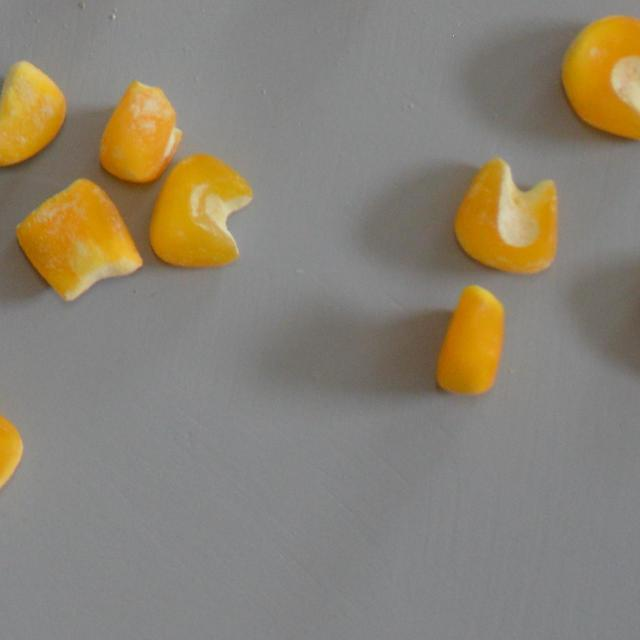estandar: (432, 284, 506, 396)
no_canjicado: (148, 152, 252, 268), (559, 12, 640, 140), (0, 388, 24, 514)
pelicula: (14, 176, 142, 302), (454, 157, 561, 274), (98, 80, 182, 182), (0, 58, 68, 166)
